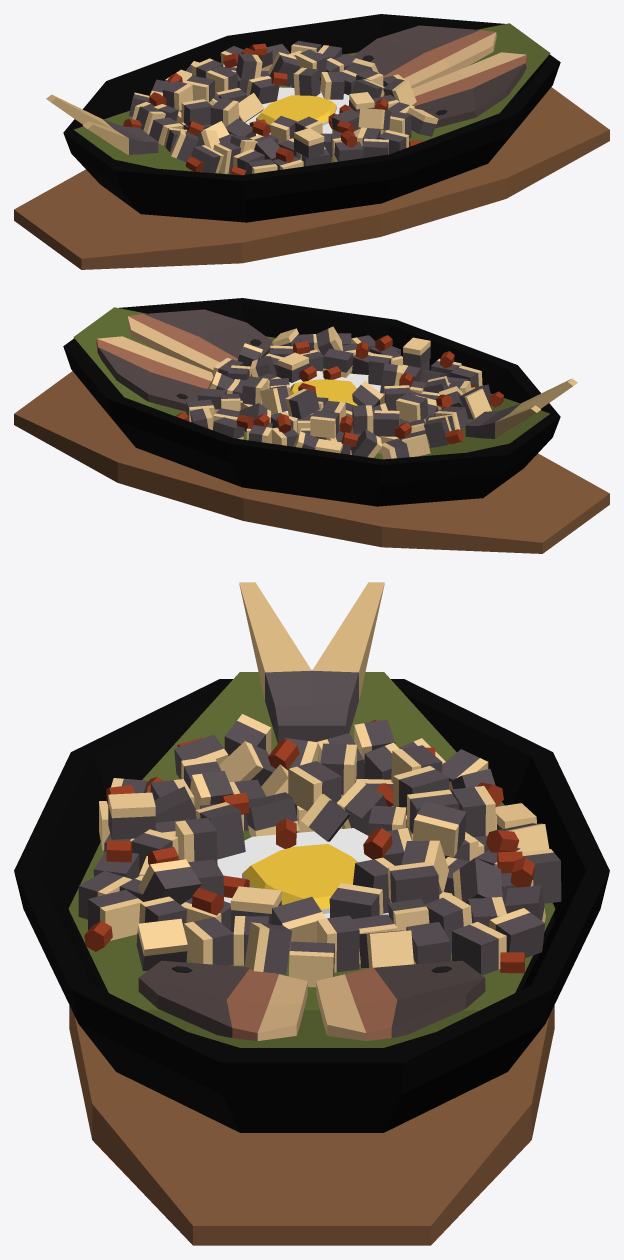
Rendered from FINAL_Bangus Sisig.fbx.
The picture shows the model from 3 angles, top to bottom: view 1: azimuth 30°, elevation 25°; view 2: azimuth 150°, elevation 25°; view 3: azimuth 270°, elevation 25°; orthographic projection. The views are drawn at different scales.
Parts seen in each view (by area): view 1: Bangus Sisig; view 2: Bangus Sisig; view 3: Bangus Sisig.
Part boxes in pixels (x1,y1,x2,y2): Bangus Sisig: (14, 14, 609, 269); Bangus Sisig: (14, 298, 609, 553); Bangus Sisig: (14, 582, 609, 1245).
Size of the model in its own units: 161 by 39.4 by 88.92.
